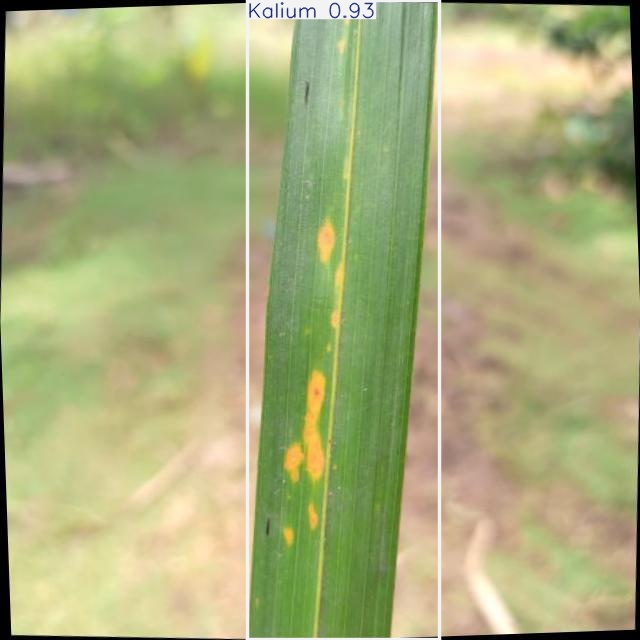Kalium: (247, 1, 439, 640)
